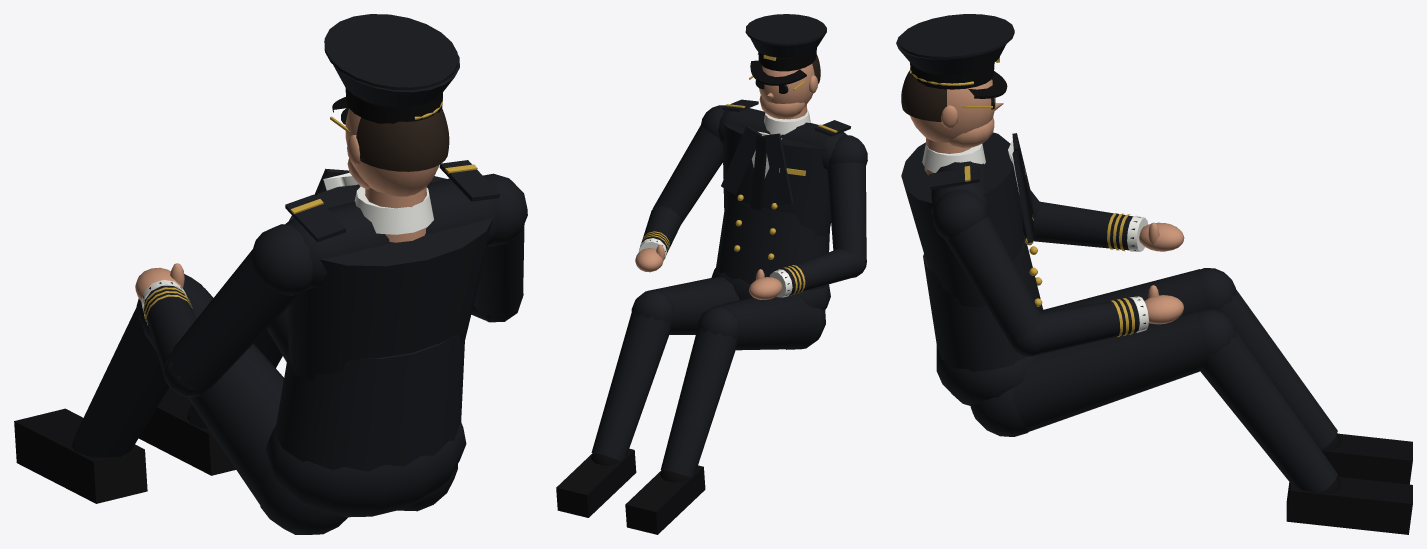
Rendered from pilot-b737-first-officer.glb.
3 renders of one model, left to right at view 1: azimuth 30°, elevation 25°; view 2: azimuth 150°, elevation 25°; view 3: azimuth 270°, elevation 25°, orthographic. The views are drawn at different scales.
Parts seen in each view (by area): view 1: Pilot_Torso_pilot-airline-uniform, Pilot_Arm_L_Upper_pilot-airline-uniform, Pilot_Leg_L_Thigh_pilot-airline-trousers, Pilot_Head_pilot-airline-cap, Pilot_Torso_pilot-airline-trousers, Pilot_Leg_L_Shin_pilot-airline-trousers, Pilot_Leg_L_Foot_pilot-airline-shoes, Pilot_Arm_R_Upper_pilot-airline-uniform, Pilot_Head_pilot-airline-hair, Pilot_Leg_R_Foot_pilot-airline-shoes, Pilot_Head_pilot-civil-skin, Pilot_Arm_L_Fore_pilot-airline-uniform (+5 smaller); view 2: Pilot_Torso_pilot-airline-uniform, Pilot_Leg_R_Shin_pilot-airline-trousers, Pilot_Leg_L_Shin_pilot-airline-trousers, Pilot_Leg_L_Thigh_pilot-airline-trousers, Pilot_Arm_L_Upper_pilot-airline-uniform, Pilot_Arm_R_Upper_pilot-airline-uniform, Pilot_Leg_R_Thigh_pilot-airline-trousers, Pilot_Leg_L_Foot_pilot-airline-shoes, Pilot_Leg_R_Foot_pilot-airline-shoes, Pilot_Head_pilot-airline-cap, Pilot_Head_pilot-civil-skin, Pilot_Arm_L_Fore_pilot-airline-uniform (+8 smaller); view 3: Pilot_Torso_pilot-airline-uniform, Pilot_Leg_R_Thigh_pilot-airline-trousers, Pilot_Leg_R_Shin_pilot-airline-trousers, Pilot_Arm_R_Upper_pilot-airline-uniform, Pilot_Leg_R_Foot_pilot-airline-shoes, Pilot_Head_pilot-airline-cap, Pilot_Leg_L_Shin_pilot-airline-trousers, Pilot_Arm_R_Fore_pilot-airline-uniform, Pilot_Leg_L_Foot_pilot-airline-shoes, Pilot_Head_pilot-civil-skin, Pilot_Leg_L_Thigh_pilot-airline-trousers, Pilot_Arm_L_Fore_pilot-airline-uniform (+6 smaller).
Part boxes in pixels (x1,y1,x2,y2): Pilot_Torso_pilot-airline-uniform: [275, 160, 499, 471]; Pilot_Arm_L_Upper_pilot-airline-uniform: [164, 224, 312, 397]; Pilot_Leg_L_Thigh_pilot-airline-trousers: [136, 274, 347, 534]; Pilot_Head_pilot-airline-cap: [324, 14, 459, 107]; Pilot_Torso_pilot-airline-trousers: [265, 422, 466, 517]; Pilot_Leg_L_Shin_pilot-airline-trousers: [73, 307, 169, 457]; Pilot_Leg_L_Foot_pilot-airline-shoes: [14, 408, 147, 503]; Pilot_Arm_R_Upper_pilot-airline-uniform: [473, 173, 527, 322]; Pilot_Head_pilot-airline-hair: [356, 108, 449, 171]; Pilot_Leg_R_Foot_pilot-airline-shoes: [138, 387, 235, 475]; Pilot_Head_pilot-civil-skin: [345, 108, 439, 242]; Pilot_Arm_L_Fore_pilot-airline-uniform: [143, 282, 196, 376]; Pilot_Torso_pilot-airline-uniform: [716, 99, 850, 290]; Pilot_Leg_R_Shin_pilot-airline-trousers: [591, 312, 671, 461]; Pilot_Leg_L_Shin_pilot-airline-trousers: [660, 328, 737, 477]; Pilot_Leg_L_Thigh_pilot-airline-trousers: [697, 295, 825, 350]; Pilot_Arm_L_Upper_pilot-airline-uniform: [827, 135, 867, 277]; Pilot_Arm_R_Upper_pilot-airline-uniform: [652, 105, 725, 223]; Pilot_Leg_R_Thigh_pilot-airline-trousers: [631, 277, 739, 334]; Pilot_Leg_L_Foot_pilot-airline-shoes: [625, 465, 705, 534]; Pilot_Leg_R_Foot_pilot-airline-shoes: [556, 448, 636, 517]; Pilot_Head_pilot-airline-cap: [745, 14, 826, 57]; Pilot_Head_pilot-civil-skin: [759, 64, 818, 119]; Pilot_Arm_L_Fore_pilot-airline-uniform: [777, 249, 860, 295]; Pilot_Torso_pilot-airline-uniform: [901, 132, 1043, 371]; Pilot_Leg_R_Thigh_pilot-airline-trousers: [970, 309, 1235, 436]; Pilot_Leg_R_Shin_pilot-airline-trousers: [1200, 330, 1337, 493]; Pilot_Arm_R_Upper_pilot-airline-uniform: [932, 190, 1041, 356]; Pilot_Leg_R_Foot_pilot-airline-shoes: [1286, 476, 1412, 534]; Pilot_Head_pilot-airline-cap: [896, 14, 1014, 74]; Pilot_Leg_L_Shin_pilot-airline-trousers: [1218, 289, 1337, 450]; Pilot_Arm_R_Fore_pilot-airline-uniform: [1035, 297, 1145, 354]; Pilot_Leg_L_Foot_pilot-airline-shoes: [1321, 433, 1412, 484]; Pilot_Head_pilot-civil-skin: [910, 79, 1003, 175]; Pilot_Leg_L_Thigh_pilot-airline-trousers: [1043, 268, 1235, 313]; Pilot_Arm_L_Fore_pilot-airline-uniform: [1024, 201, 1140, 250].
Bounding box in the file's own units: 0.6873 × 1.14 × 1.13.
